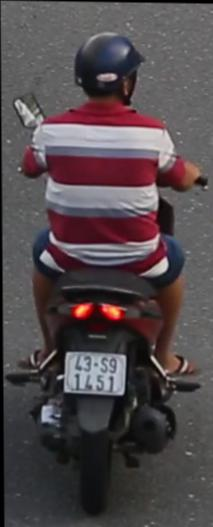LP: (61, 346, 127, 397)
helmet: (71, 27, 143, 110)
